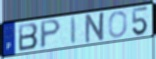5: (131, 5, 149, 37)
B: (17, 22, 39, 52)
I: (70, 15, 78, 45)
N: (84, 11, 107, 45)
O: (107, 10, 128, 39)
P: (39, 18, 62, 50)
